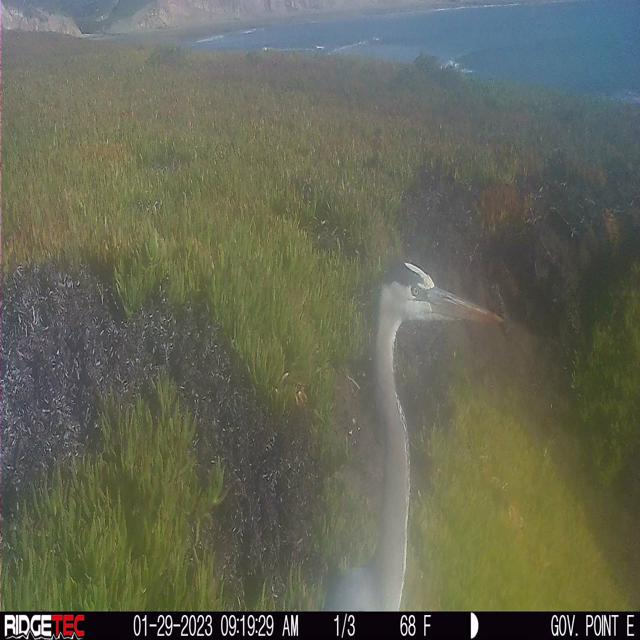bird: (323, 260, 506, 611)
